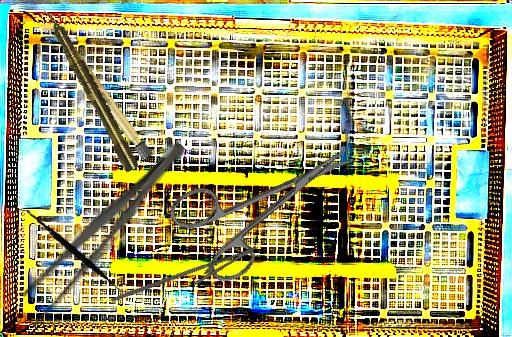Dressing Forceps: (9, 131, 196, 331)
Handpiece: (40, 5, 141, 174)
Iris Scissors: (163, 113, 379, 292)
Needle Holder: (110, 229, 263, 329)
Scalpel Handle: (47, 22, 155, 162)
Spatula Surgical: (6, 208, 139, 295)
